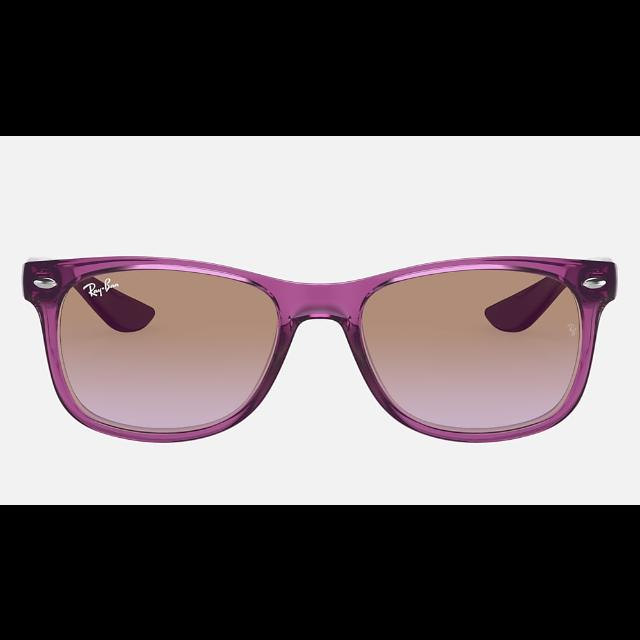Sunglasses: (22, 255, 618, 442)
